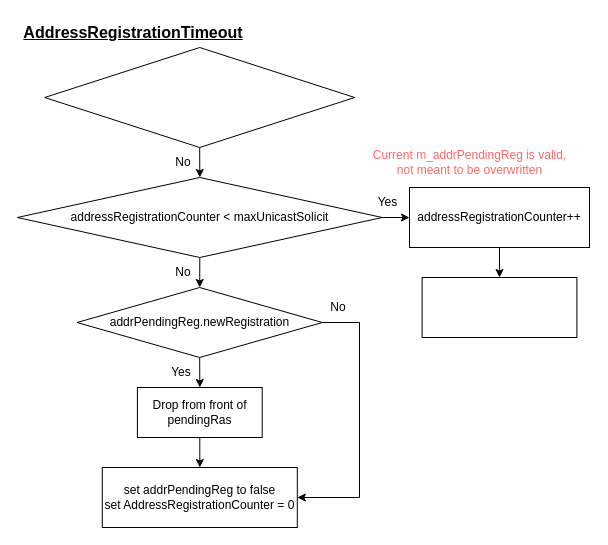
Some shapes in this 608 by 545 pixel diagram are drawn without their labels. Here are the shapes that lost their labels. From the top down, the centre of each, then its label:
At point 199,97: "addressRegistrationTimeoutEvent.isPending()?".
At point 499,307: "Call AddressRegistration()".
